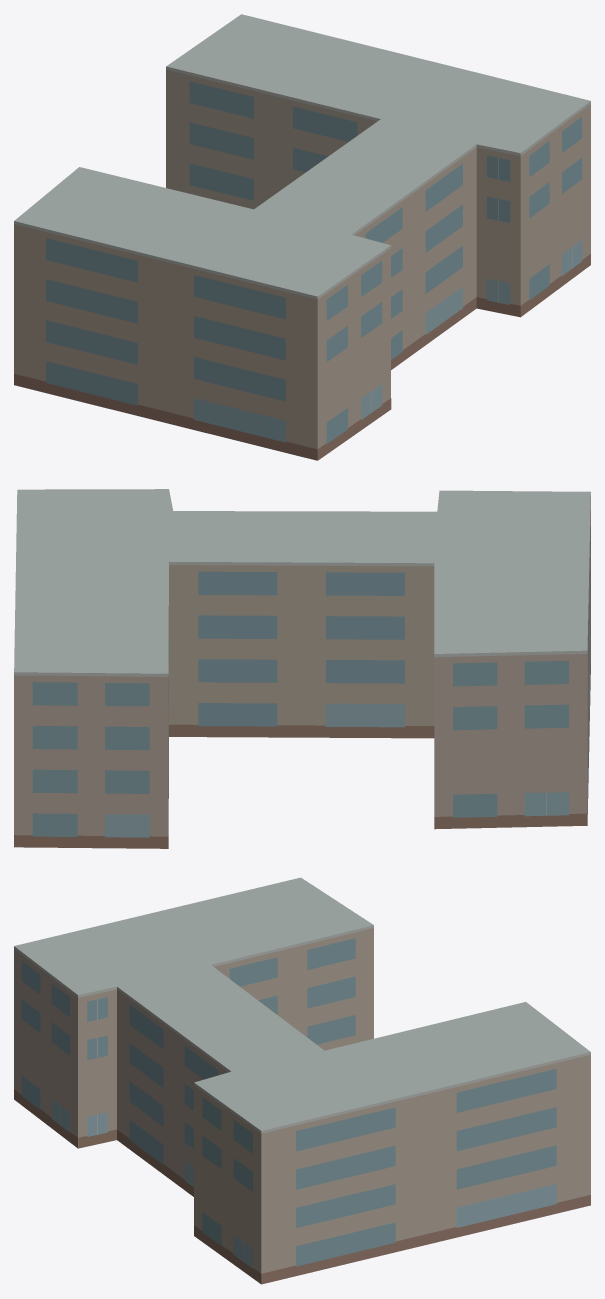
File: survey-upis-32954268.glb
3 views of the same model, one above another, from view 1: azimuth 30°, elevation 25°; view 2: azimuth 150°, elevation 25°; view 3: azimuth 270°, elevation 25° (orthographic). The views are drawn at different scales.
Parts seen in each view (by area): view 1: survey-upis-32954268.tmp; view 2: survey-upis-32954268.tmp; view 3: survey-upis-32954268.tmp.
Boxes of the visible parts, x1=… form: survey-upis-32954268.tmp: x1=14, y1=14, x2=590, y2=460; survey-upis-32954268.tmp: x1=14, y1=489, x2=590, y2=848; survey-upis-32954268.tmp: x1=14, y1=877, x2=590, y2=1284.
Size of the model in its own units: 47.8 by 13.49 by 45.97.
